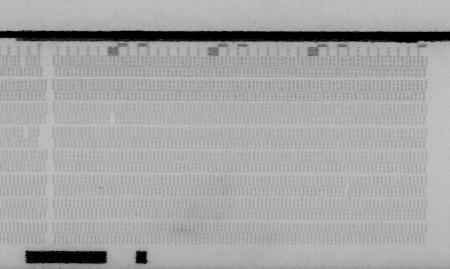Broken hole: (37, 126, 47, 148), (106, 112, 118, 124), (17, 55, 27, 67), (40, 55, 49, 68), (22, 126, 32, 137)
Oblique printing: (342, 186, 353, 199)
